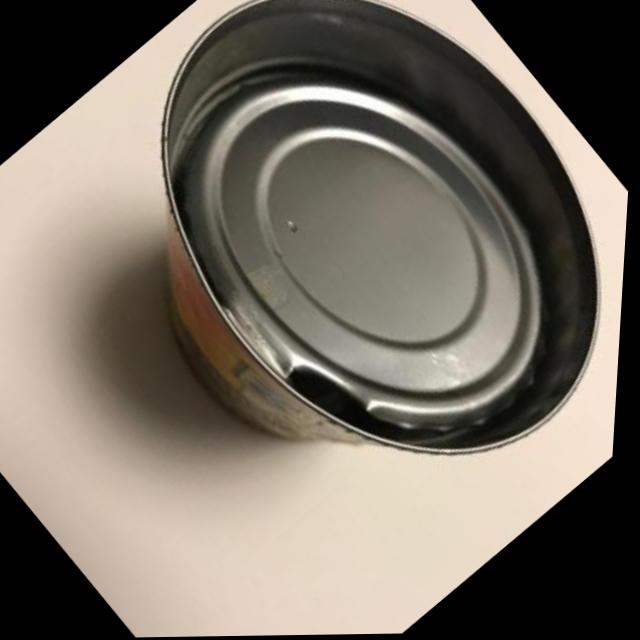metal: (0, 0, 640, 592)
